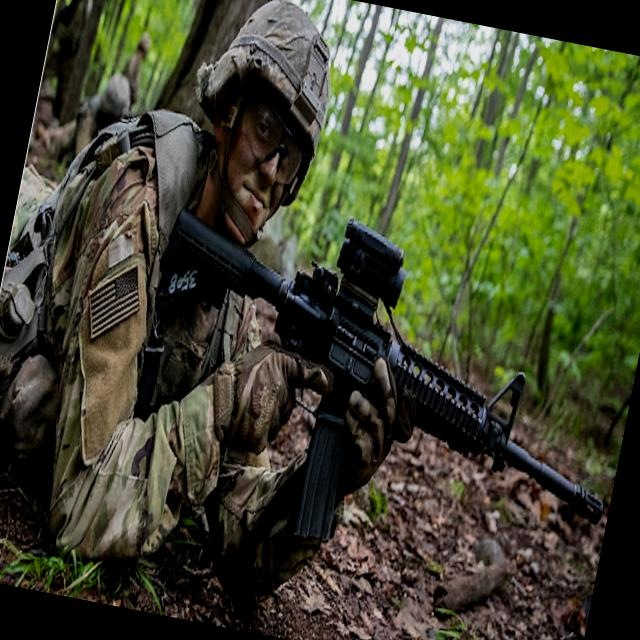long weapon: (236, 195, 639, 625)
